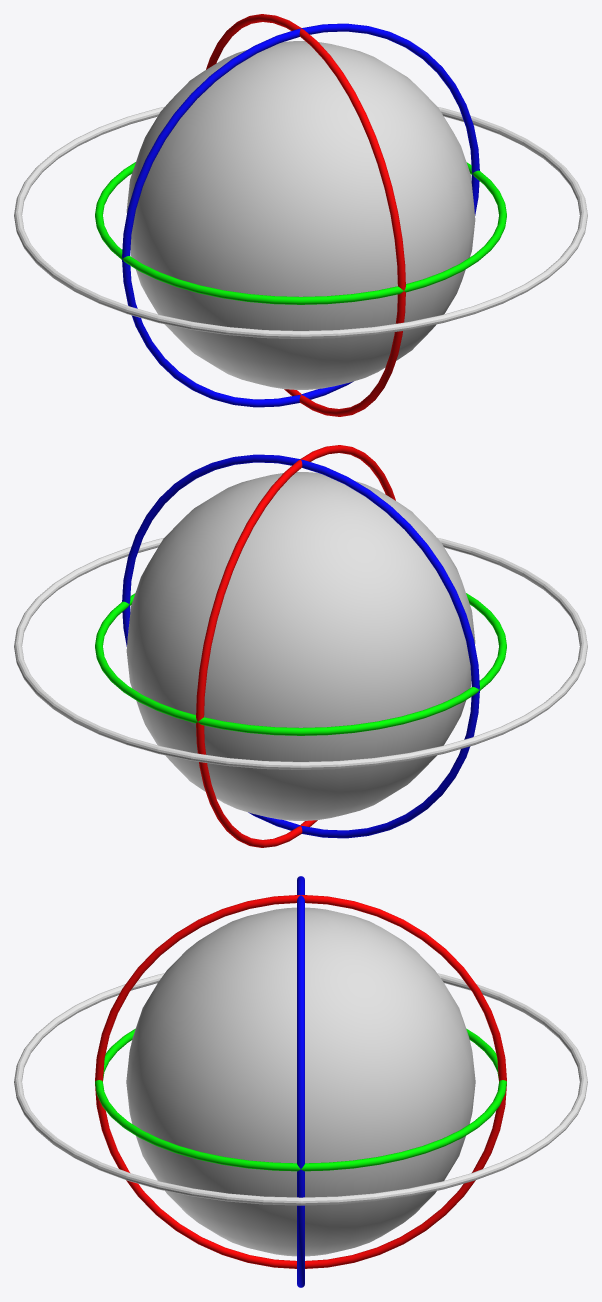
The model's file is gizmo_rotate.glb.
The picture shows the model from 3 angles, top to bottom: view 1: azimuth 30°, elevation 25°; view 2: azimuth 150°, elevation 25°; view 3: azimuth 270°, elevation 25°; orthographic projection.
Parts seen in each view (by area): view 1: trackball, rot_axis_viewport, rot_axis_z, rot_axis_x, rot_axis_y; view 2: trackball, rot_axis_viewport, rot_axis_z, rot_axis_x, rot_axis_y; view 3: trackball, rot_axis_x, rot_axis_viewport, rot_axis_y, rot_axis_z.
Part boxes in pixels (bbox=[...]): trackball: bbox=[126, 41, 475, 389]; rot_axis_viewport: bbox=[14, 106, 587, 338]; rot_axis_z: bbox=[122, 23, 479, 407]; rot_axis_x: bbox=[206, 14, 405, 416]; rot_axis_y: bbox=[95, 162, 506, 304]; trackball: bbox=[126, 472, 475, 820]; rot_axis_viewport: bbox=[14, 537, 587, 769]; rot_axis_z: bbox=[122, 454, 479, 838]; rot_axis_x: bbox=[196, 445, 395, 847]; rot_axis_y: bbox=[95, 593, 506, 735]; trackball: bbox=[126, 907, 475, 1256]; rot_axis_x: bbox=[95, 895, 506, 1268]; rot_axis_viewport: bbox=[14, 973, 587, 1205]; rot_axis_y: bbox=[95, 1028, 506, 1171]; rot_axis_z: bbox=[297, 876, 304, 1287].
Size of the model in its own units: 2.84 by 2.04 by 2.84.
